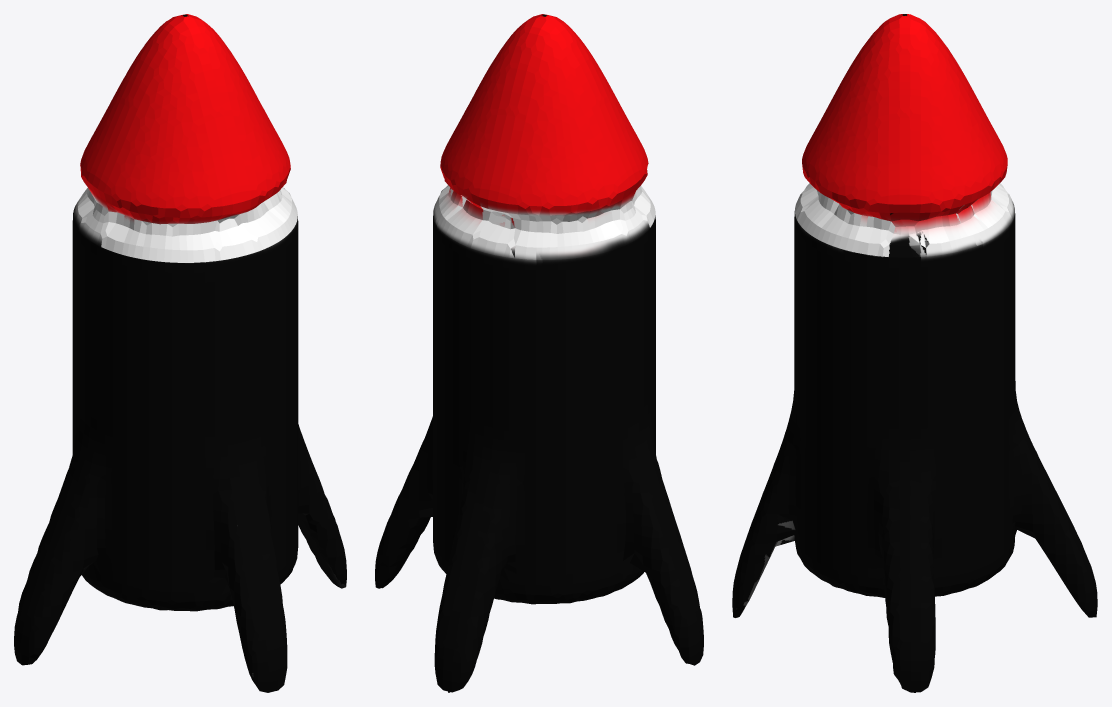
Rendered from rocket.fbx.
The picture shows the model from 3 angles, left to right: view 1: azimuth 30°, elevation 25°; view 2: azimuth 150°, elevation 25°; view 3: azimuth 270°, elevation 25°; orthographic projection.
Parts seen in each view (by area): view 1: Sphere; view 2: Sphere; view 3: Sphere.
Part boxes in pixels (left/top/right/bottom): Sphere: left=14, top=14, right=346, bottom=692; Sphere: left=375, top=14, right=703, bottom=692; Sphere: left=732, top=14, right=1097, bottom=692.
Size of the model in its own units: 328 by 596 by 328.
Materials: 2 (1 with a texture image).
